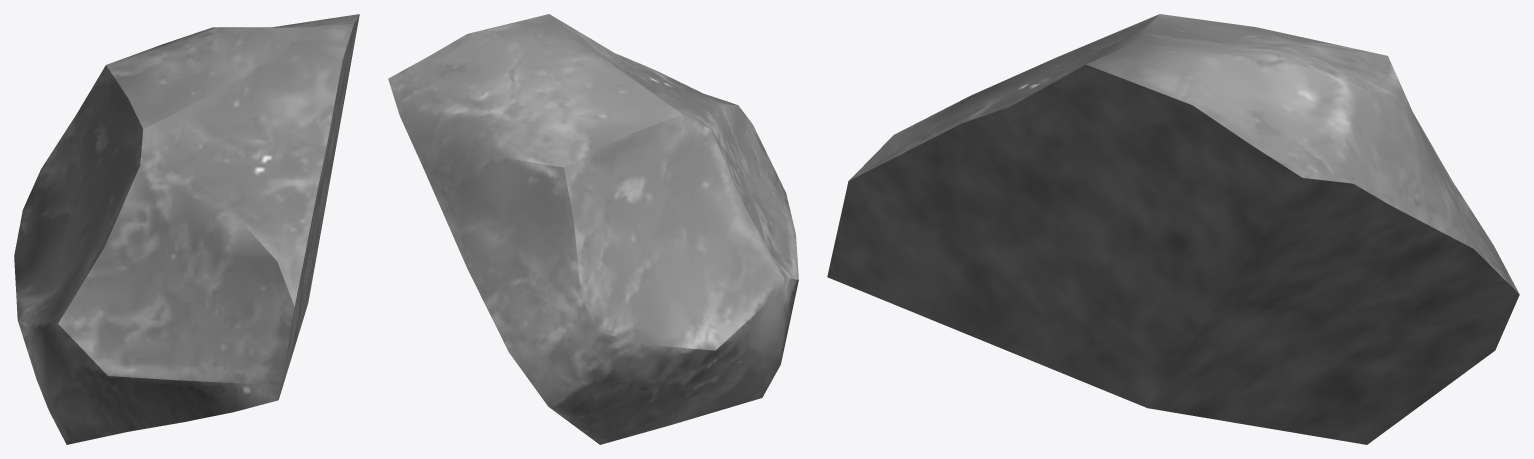
The model's file is frag_01.glb.
3 views of the same model, side by side, from view 1: azimuth 30°, elevation 25°; view 2: azimuth 150°, elevation 25°; view 3: azimuth 270°, elevation 25° (orthographic). The views are drawn at different scales.
Parts seen in each view (by area): view 1: frag_01; view 2: frag_01; view 3: frag_01.
Boxes of the visible parts, x1=… form: frag_01: x1=14, y1=14, x2=359, y2=444; frag_01: x1=388, y1=14, x2=798, y2=444; frag_01: x1=827, y1=14, x2=1519, y2=444.
Size of the model in its own units: 1.54 by 1.44 by 1.83.
Materials: 1 (1 with a texture image).
